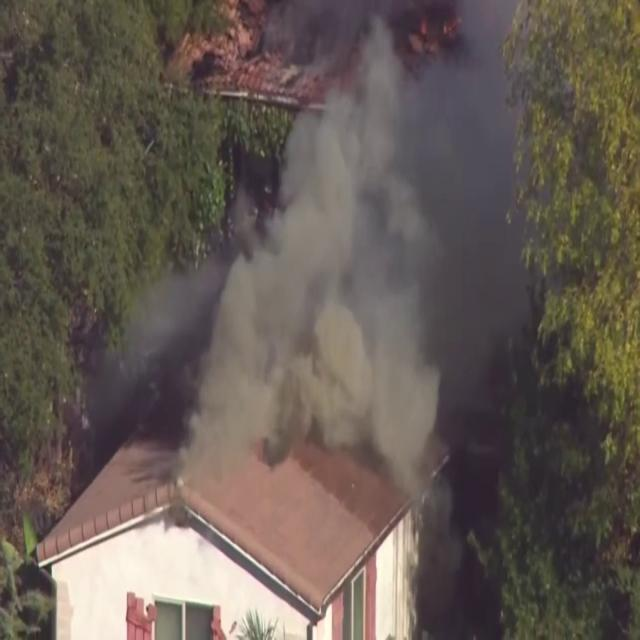Smoke: (202, 0, 556, 492)
